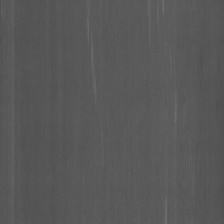silk_spot: (80, 10, 104, 96), (184, 143, 204, 190), (142, 2, 164, 41), (171, 76, 182, 132), (165, 176, 172, 223)
